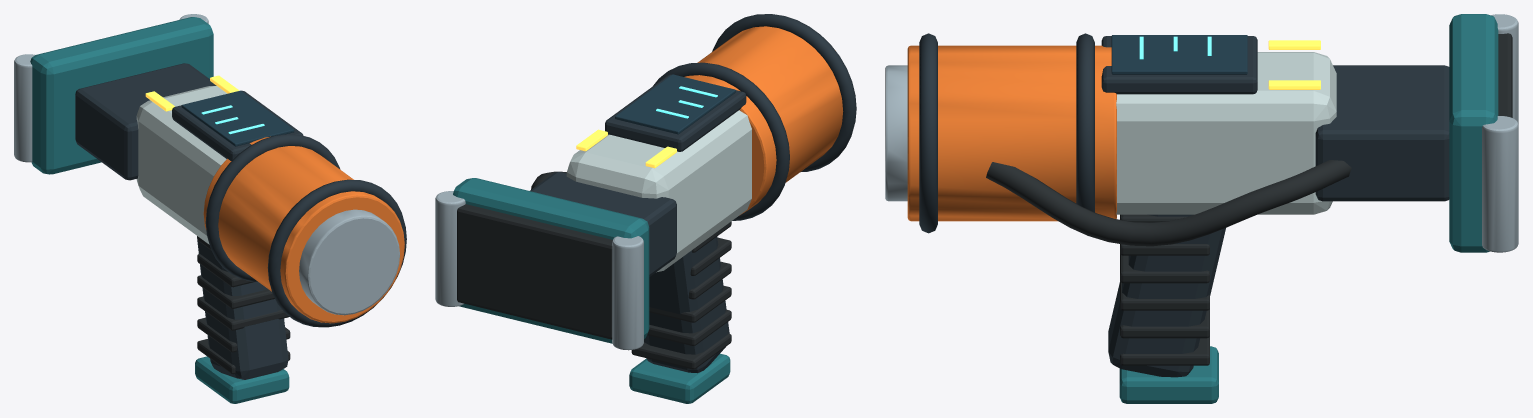
The model's file is hull_patcher.glb.
The picture shows the model from 3 angles, left to right: view 1: azimuth 30°, elevation 25°; view 2: azimuth 150°, elevation 25°; view 3: azimuth 270°, elevation 25°; orthographic projection. The views are drawn at different scales.
Visible parts, largest first — view 1: hull_patcher_mesh, Seal_head_mesh; view 2: hull_patcher_mesh, Seal_head_mesh; view 3: hull_patcher_mesh, Seal_head_mesh.
Boxes of the visible parts, <box> form: hull_patcher_mesh: <box>136,75,406,403</box>; Seal_head_mesh: <box>14,14,216,180</box>; hull_patcher_mesh: <box>531,14,856,403</box>; Seal_head_mesh: <box>435,172,676,350</box>; hull_patcher_mesh: <box>885,33,1351,403</box>; Seal_head_mesh: <box>1315,14,1518,252</box>.
Size of the model in its own units: 0.2748 by 0.365 by 0.6055.
